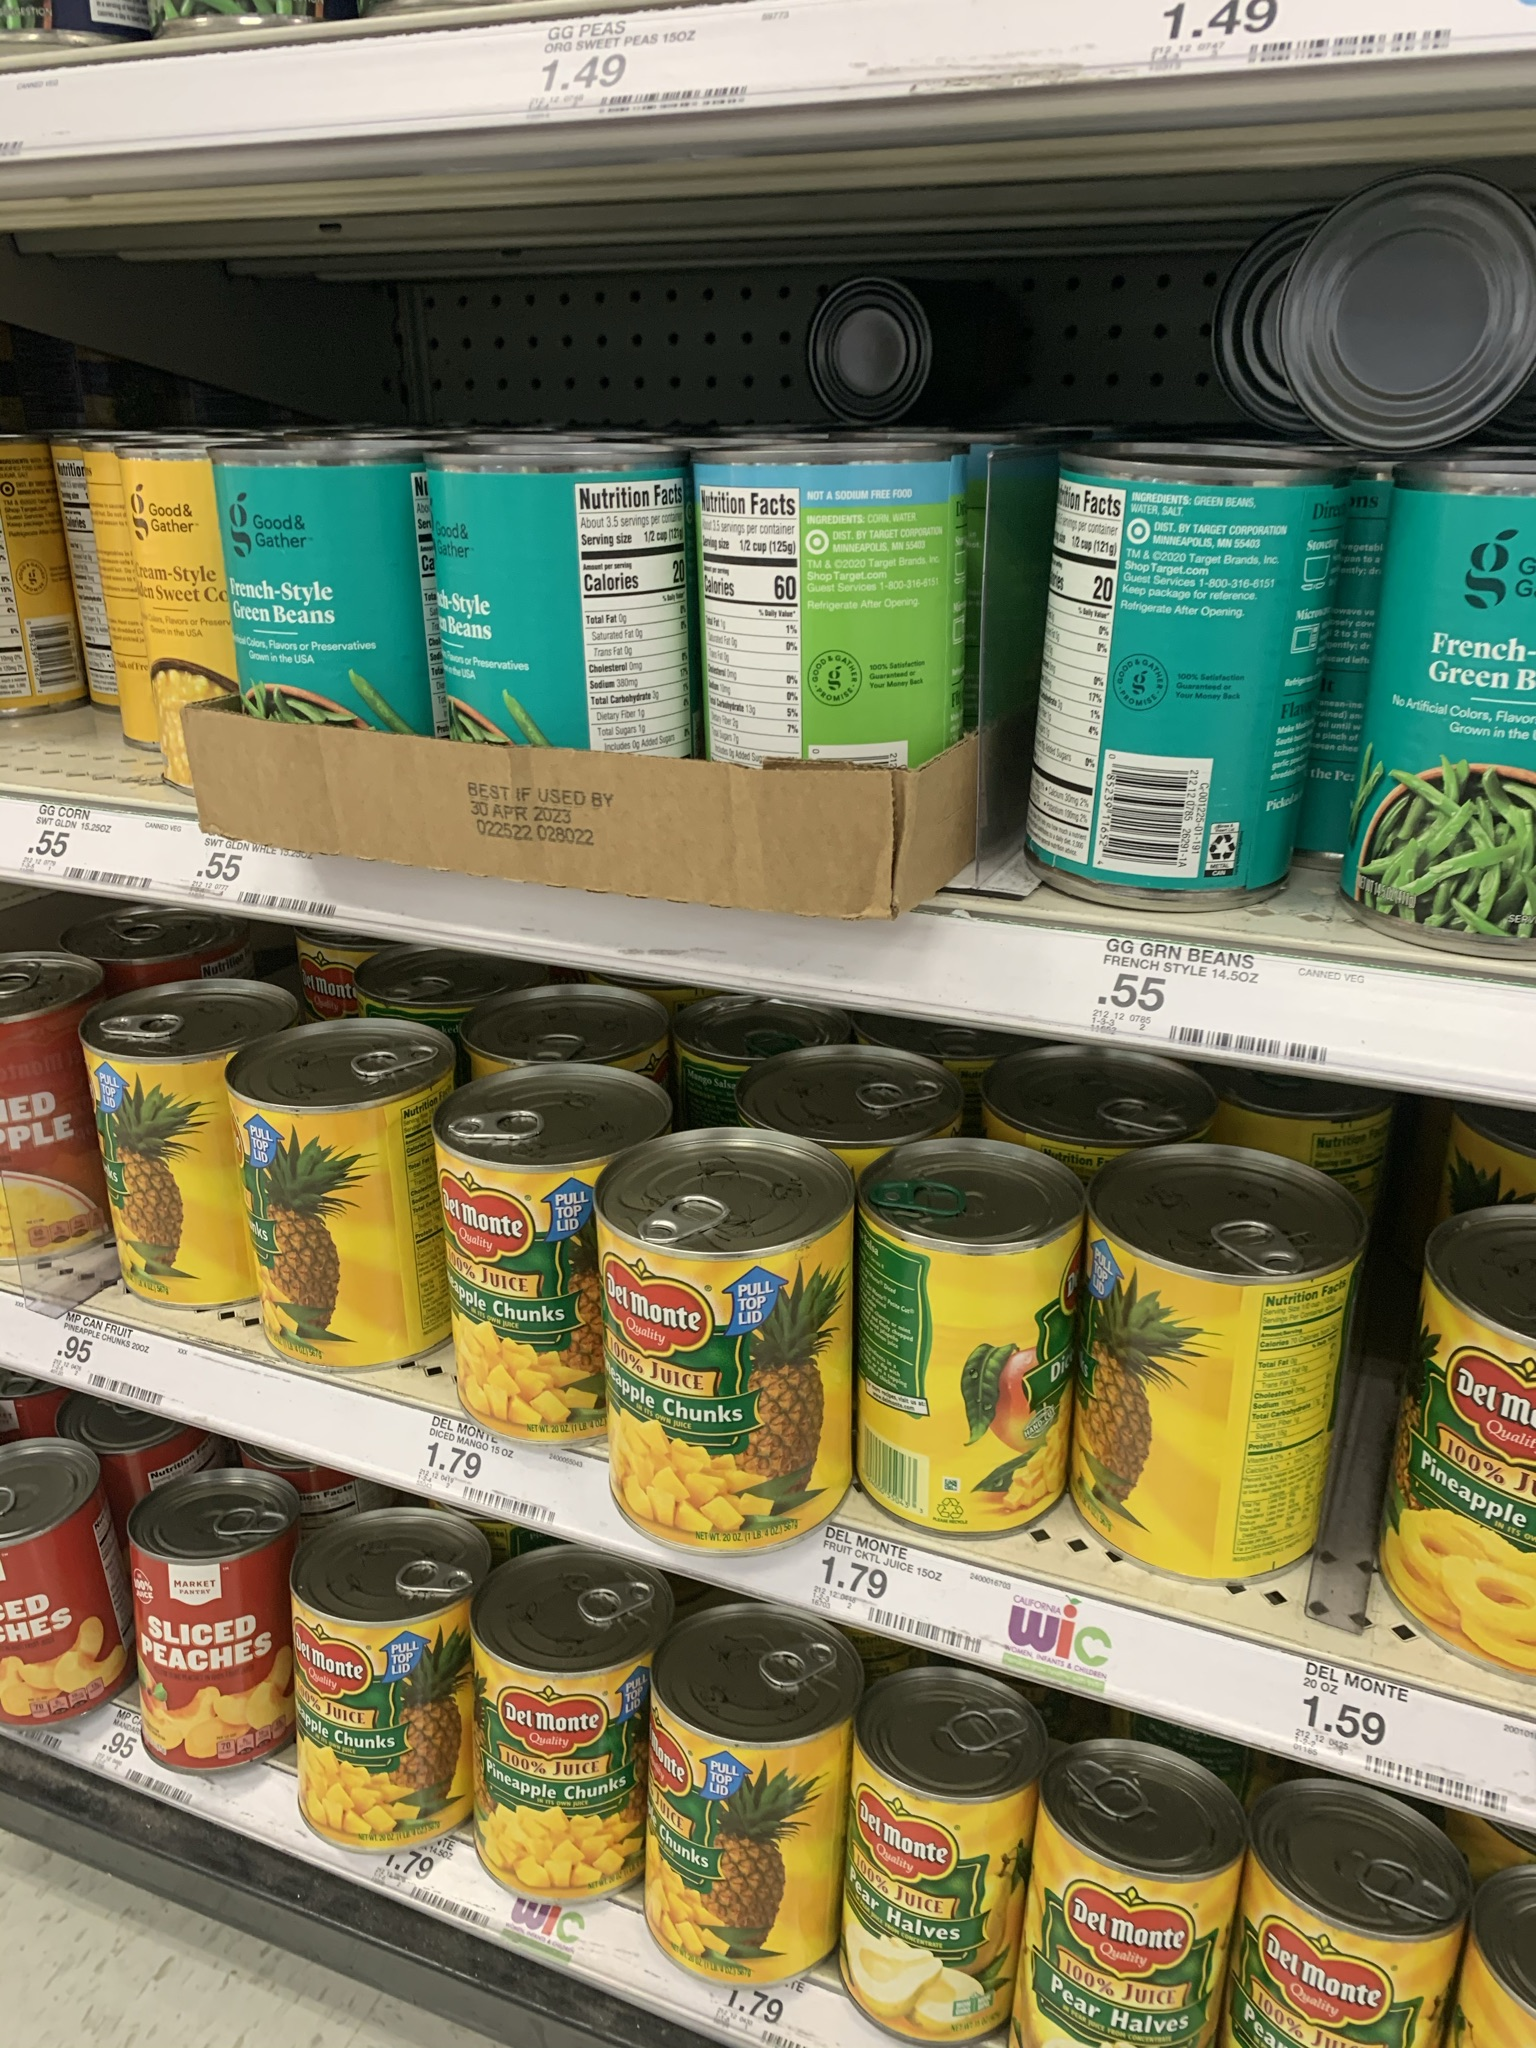can: (1054, 476, 1300, 887), (616, 1198, 849, 1506), (705, 477, 952, 753), (1091, 1238, 1317, 1535), (1397, 497, 1536, 940), (449, 466, 666, 747), (870, 1222, 1060, 1500), (678, 1642, 837, 1967), (219, 468, 415, 727), (863, 1706, 1021, 2013), (487, 1588, 641, 1884), (253, 1100, 419, 1364), (1060, 1774, 1218, 2048), (1267, 1816, 1447, 2048), (318, 1555, 465, 1832), (450, 1151, 603, 1414), (1438, 1284, 1536, 1643), (137, 1521, 286, 1742), (97, 1056, 231, 1293), (2, 1479, 84, 1716)
